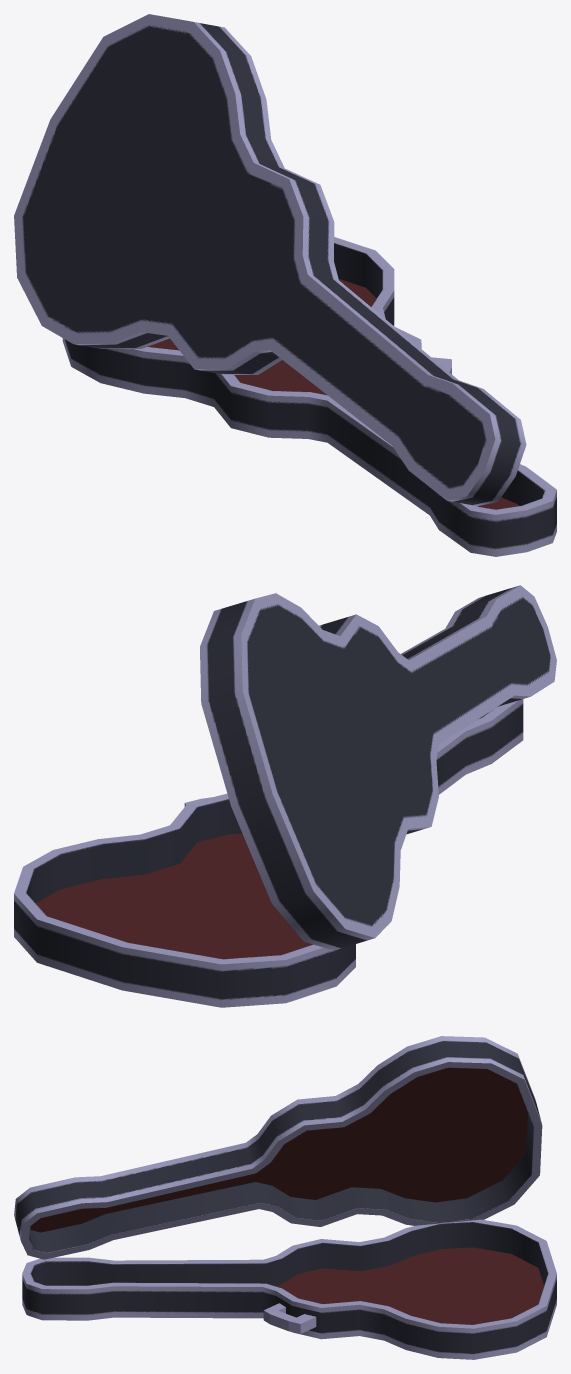
File: caixa do violão.fbx
The picture shows the model from 3 angles, top to bottom: view 1: azimuth 30°, elevation 25°; view 2: azimuth 150°, elevation 25°; view 3: azimuth 270°, elevation 25°; orthographic projection. The views are drawn at different scales.
Visible parts, largest first — view 1: capa de violão; view 2: capa de violão; view 3: capa de violão.
Boxes of the visible parts, left/top/right/bottom form: capa de violão: left=14, top=14, right=556, bottom=556; capa de violão: left=14, top=585, right=556, bottom=1007; capa de violão: left=14, top=1036, right=556, bottom=1359.
Bounding box in the file's own units: 135 × 128 × 252.
